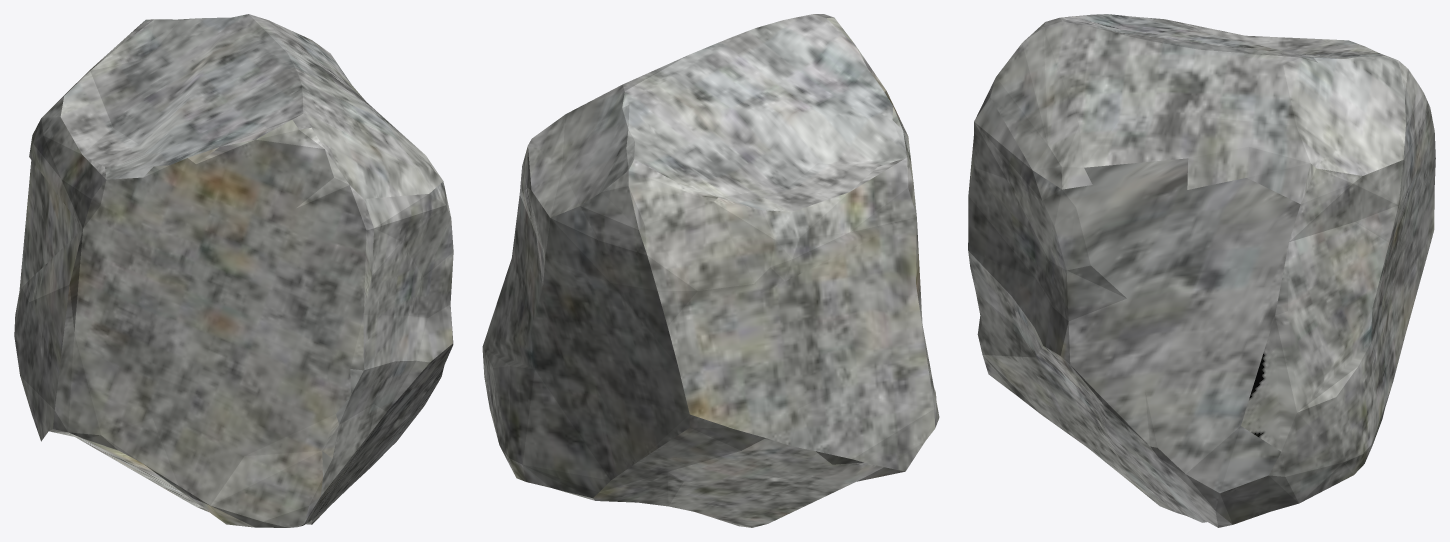
File: gneiss.glb
3 renders of one model, left to right at view 1: azimuth 30°, elevation 25°; view 2: azimuth 150°, elevation 25°; view 3: azimuth 270°, elevation 25°, orthographic. The views are drawn at different scales.
Visible parts, largest first — view 1: Cube.001; view 2: Cube.001; view 3: Cube.001.
Part boxes in pixels (x1=…): Cube.001: x1=14, y1=14, x2=453, y2=527; Cube.001: x1=482, y1=14, x2=939, y2=527; Cube.001: x1=968, y1=14, x2=1435, y2=527.
Size of the model in its own units: 1.79 by 1.97 by 1.83.
Materials: 1 (1 with a texture image).
